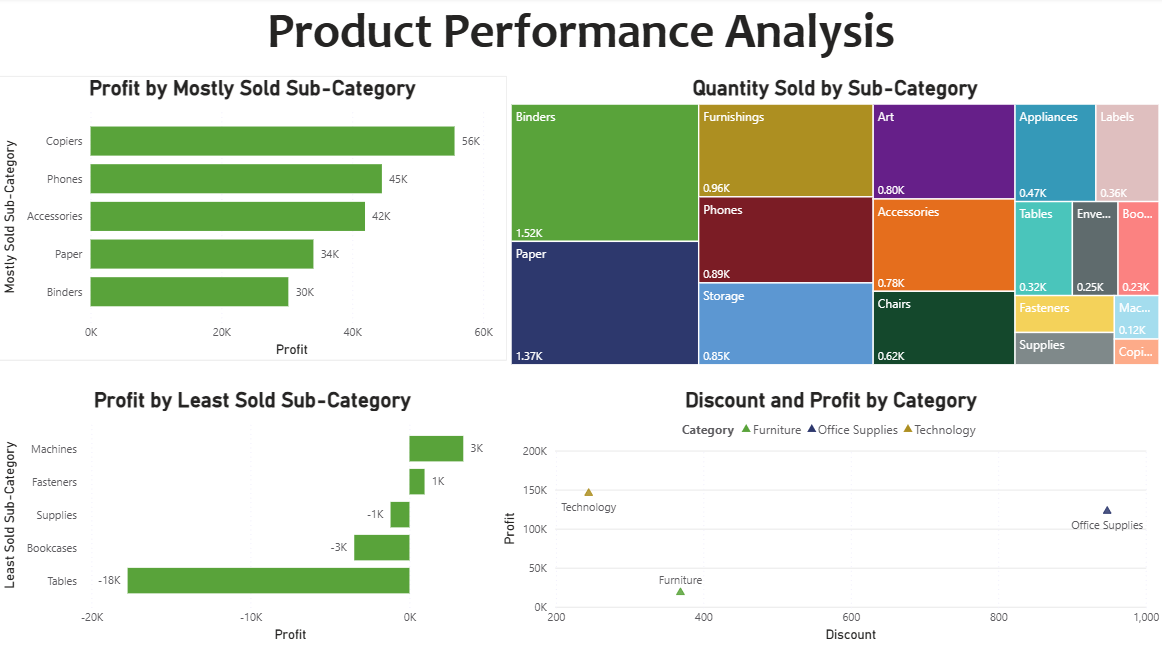

Layout of this report page (visuals, bound fields, positions):
{"tool":"powerbi","page":{"name":"Page 2","canvas":[1280,720],"ordinal":1},"visuals":[{"type":"barChart","title":"Top Profitable Sub-Categories","fields":{"Category":["SampleSuperstore.Sub-Category"],"Y":["Sum(SampleSuperstore.Profit)"]},"box":[0,86.2,558.8,313.8],"z":0},{"type":"barChart","title":"Least Profitable Sub-Categories","fields":{"Category":["SampleSuperstore.Sub-Category"],"Y":["Sum(SampleSuperstore.Profit)"]},"box":[0,428.8,558.8,285],"z":1000},{"type":"textbox","box":[0,0,1280,86.2],"z":2000},{"type":"treemap","fields":{"Values":["CountNonNull(SampleSuperstore.Quantity)"],"Group":["SampleSuperstore.Sub-Category"]},"box":[558.8,86.2,721.2,322.5],"z":3000},{"type":"scatterChart","fields":{"X":["Sum(SampleSuperstore.Discount)"],"Y":["Sum(SampleSuperstore.Profit)"],"Series":["SampleSuperstore.Category"]},"box":[548.8,428.8,731.2,285],"z":4000}]}

Visuals, with their boxes in screenshot pixels (x1, y1, x2, y2), scaled from the page's 1280x720 canvas onto the 1162x648 screenshot:
"Top Profitable Sub-Categories" barChart: BBox(0, 78, 507, 360)
"Least Profitable Sub-Categories" barChart: BBox(0, 386, 507, 642)
textbox: BBox(0, 0, 1161, 78)
treemap - CountNonNull(SampleSuperstore.Quantity) x SampleSuperstore.Sub-Category: BBox(507, 78, 1161, 368)
scatterChart - Sum(SampleSuperstore.Discount) x Sum(SampleSuperstore.Profit): BBox(498, 386, 1161, 642)
